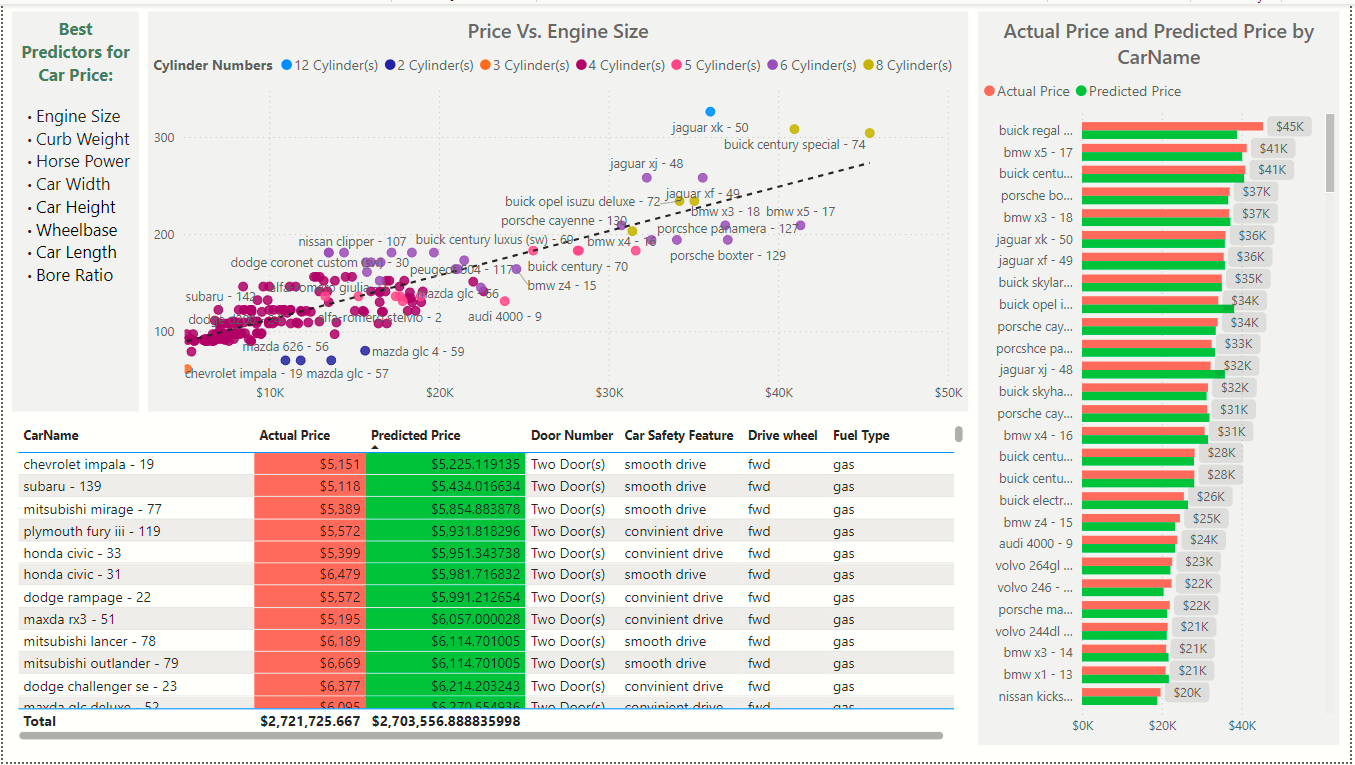

The page's visual inventory and layout, read from the dashboard file:
{"tool":"powerbi","page":{"name":"Page 2","canvas":[1280,720],"ordinal":1},"visuals":[{"type":"textbox","box":[7.8,6.7,121.1,380],"z":0},{"type":"scatterChart","title":"Price Vs. Engine Size","fields":{"Category":["Car Predictions Output csv.CarName"],"X":["Sum(Car Predictions Output csv.price)"],"Y":["Sum(Car Predictions Output csv.enginesize)"],"Series":["Car Predictions Output csv.Cylinder Numbers"]},"box":[137.8,6.7,778.9,380],"z":1},{"type":"clusteredBarChart","fields":{"Category":["Car Predictions Output csv.CarName"],"Y":["Sum(Car Predictions Output csv.price)","Sum(Car Predictions Output csv.Price Predictions)"]},"box":[926.7,6.7,343.3,696.7],"z":2},{"type":"tableEx","fields":{"Values":["Car Predictions Output csv.CarName","Sum(Car Predictions Output csv.price)","Sum(Car Predictions Output csv.Price Predictions)","Car Predictions Output csv.Door Number","Car Predictions Output csv.Car Safety Feature","Car Predictions Output csv.drivewheel","Car Predictions Output csv.fueltype"]},"box":[7.8,395.6,908.9,308.9],"z":3}]}

Visuals, with their boxes in screenshot pixels (x1, y1, x2, y2), scaled from the page's 1280x720 canvas onto the 1355x765 screenshot:
textbox: (8, 7, 136, 411)
"Price Vs. Engine Size" scatterChart: (146, 7, 970, 411)
clusteredBarChart - Car Predictions Output csv.CarName x Sum(Car Predictions Output csv.price): (981, 7, 1344, 747)
tableEx - Car Predictions Output csv.CarName x Sum(Car Predictions Output csv.price): (8, 420, 970, 749)
